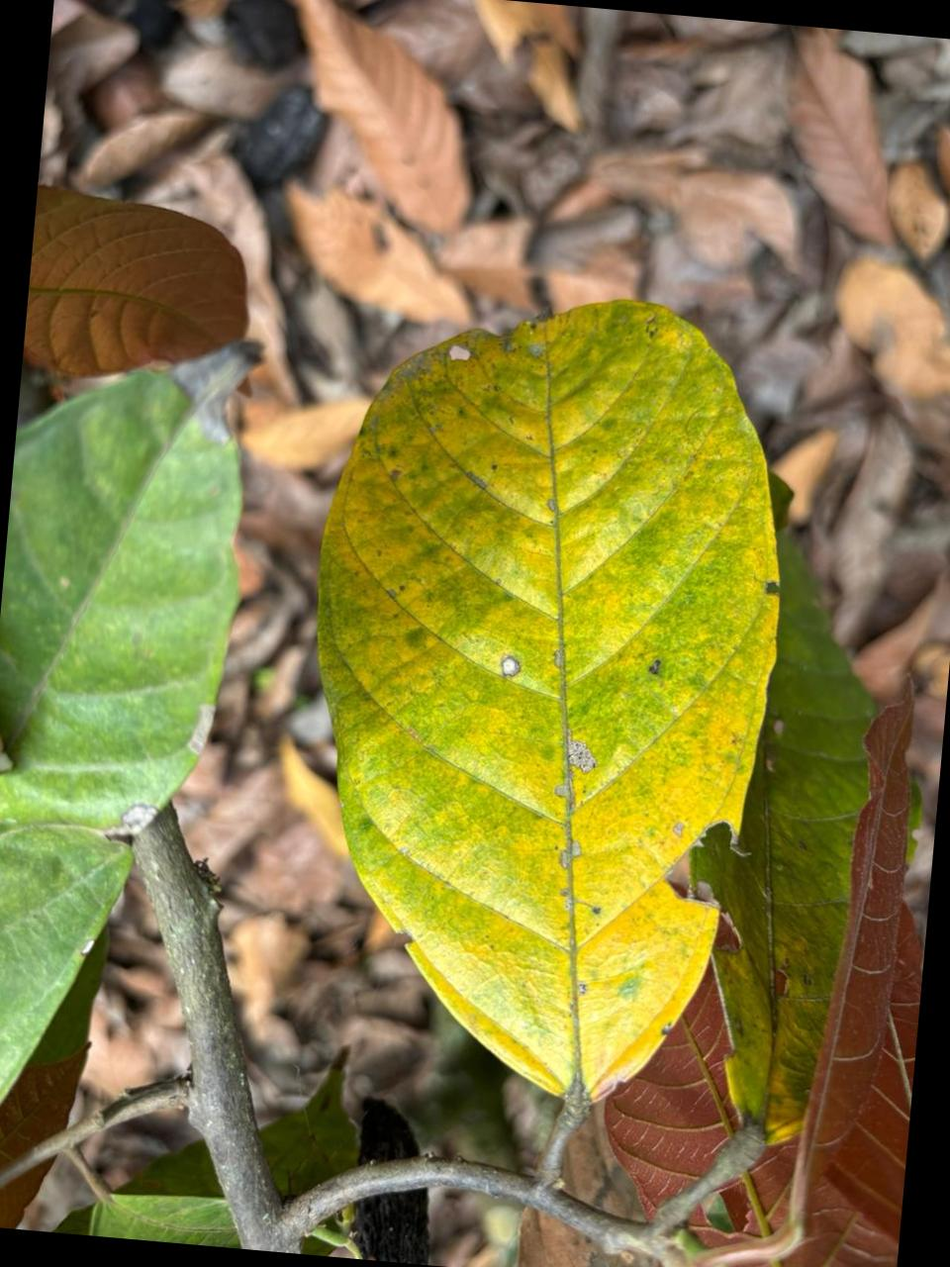Fosforo: (318, 301, 779, 1099)
